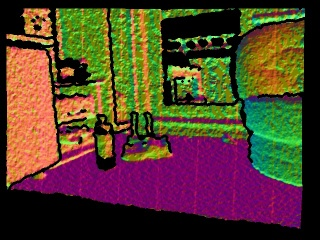station: (127, 112, 155, 143)
